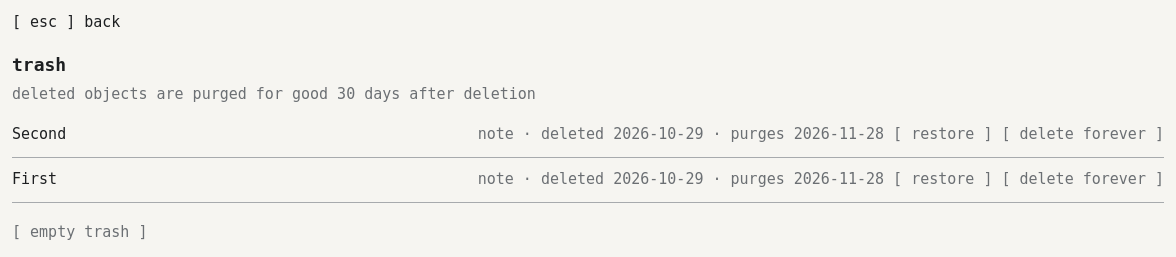
Test: trash › restore POSTs and removes the row
Expected: the text "First" is shown, [12,170,57,188]
Click the button "[ restore ]" in the row of "First".
click(943, 180)  # box [893,158,992,202]
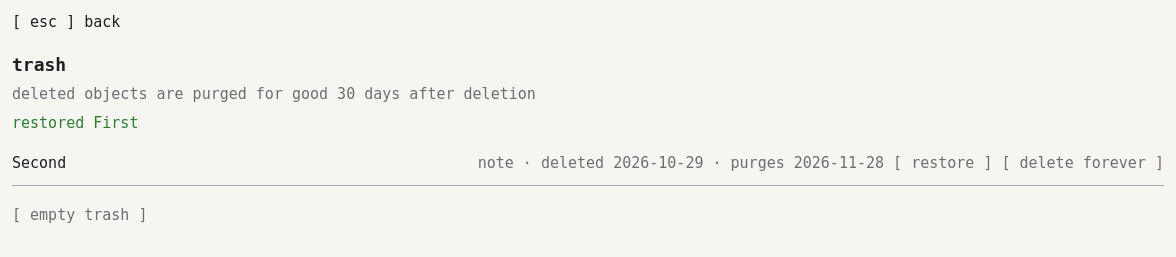
Now the text "restored First" is shown, box [12,114,138,132]
Now the number of list items is 1, box [12,141,1164,186]
